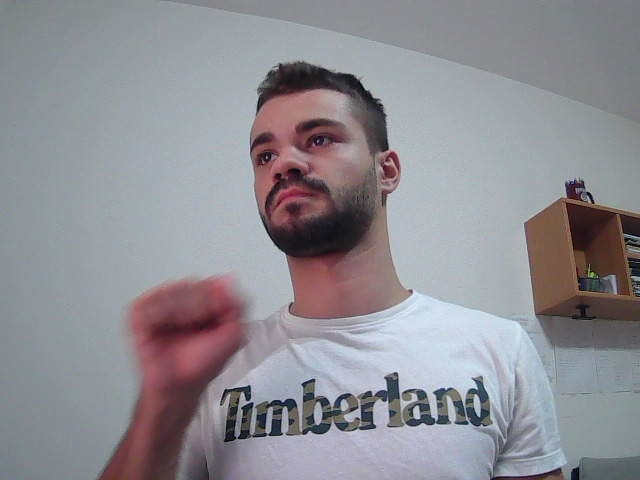a: (86, 262, 266, 480)
